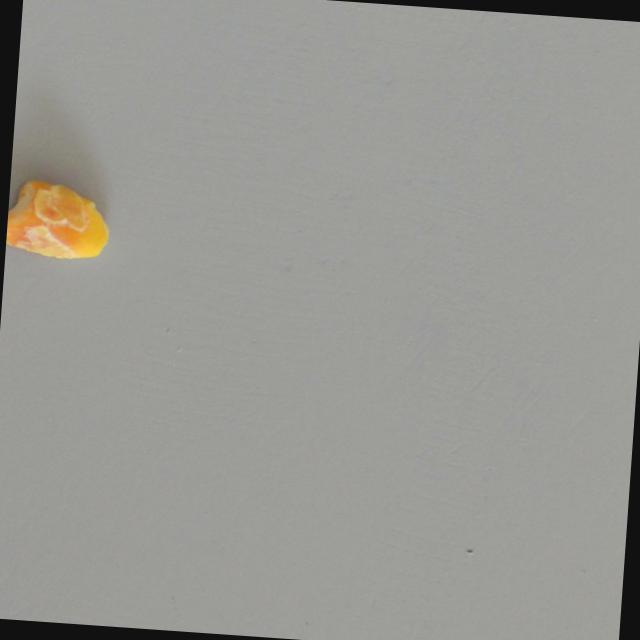pelicula: (3, 173, 117, 268)
